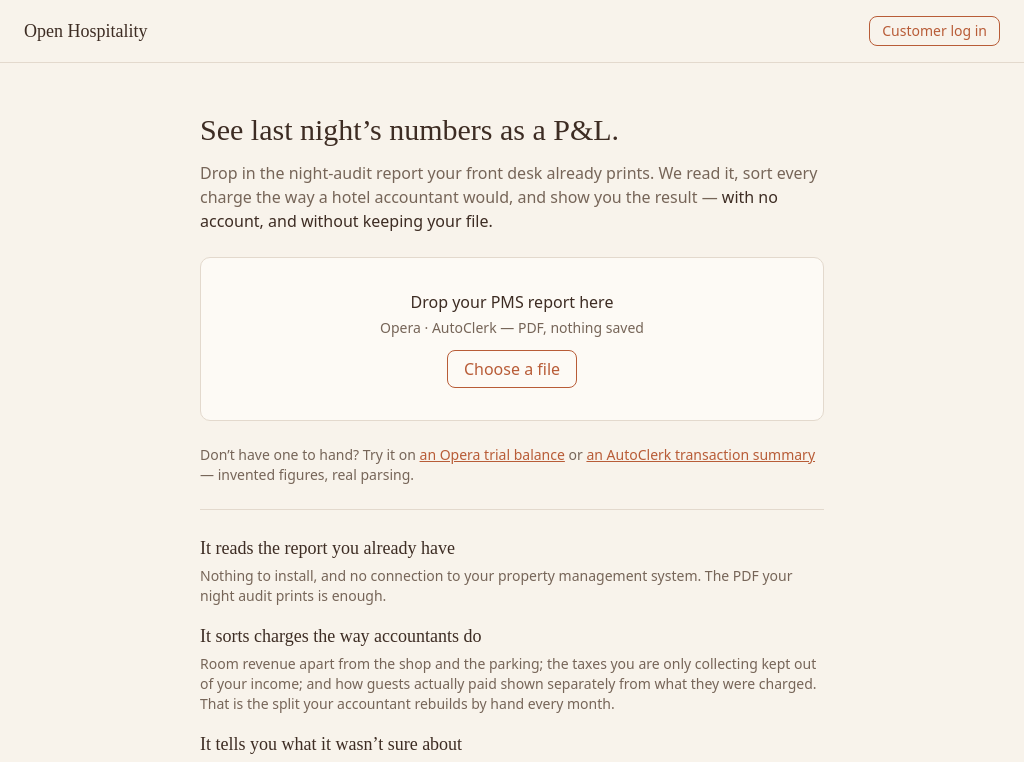
Test: PreviewPage (public) › runs a sample through the SAME upload path as a dropped file
Click the button "an Opera trial balance" at (492, 454), box [420,444,565,464]
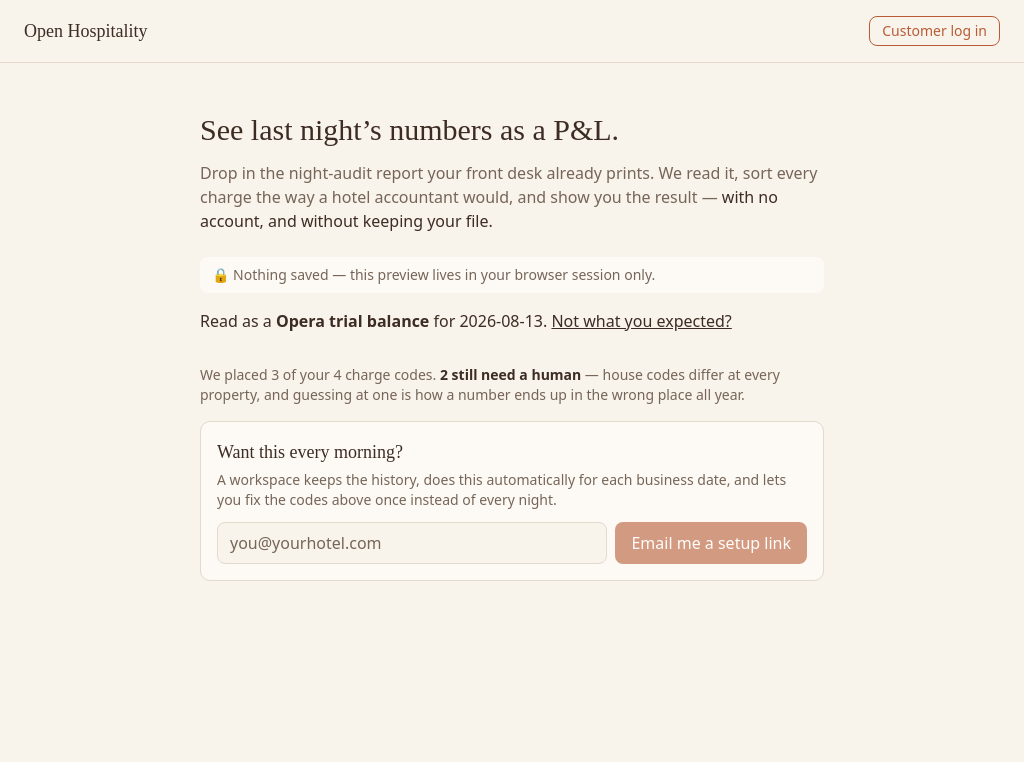
Now the element named "Preview result" is shown, box [200,256,824,580]
